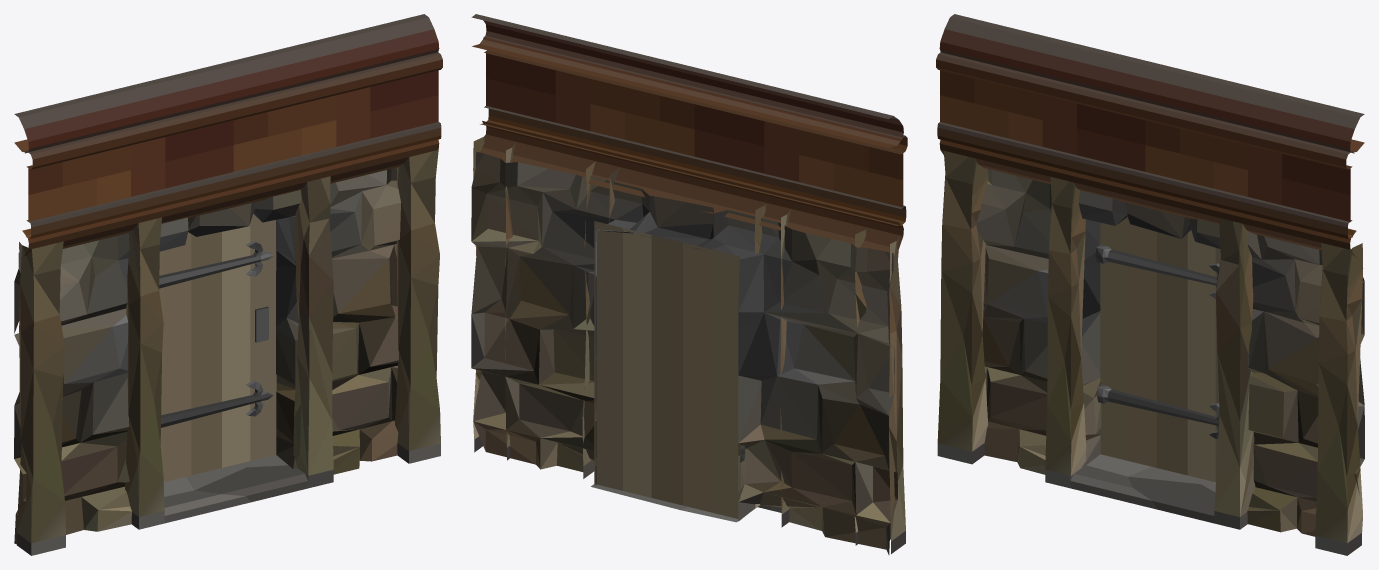
The model's file is Wall_HomeA-DoorHometoUnderGround.fbx.
The picture shows the model from 3 angles, left to right: view 1: azimuth 30°, elevation 25°; view 2: azimuth 150°, elevation 25°; view 3: azimuth 330°, elevation 25°; orthographic projection.
Visible parts, largest first — view 1: Wall_HomeA-DoorHometoUnderGround; view 2: Wall_HomeA-DoorHometoUnderGround; view 3: Wall_HomeA-DoorHometoUnderGround.
Boxes of the visible parts, x1,y1,x2,y2 form: Wall_HomeA-DoorHometoUnderGround: [14, 14, 442, 555]; Wall_HomeA-DoorHometoUnderGround: [471, 14, 907, 554]; Wall_HomeA-DoorHometoUnderGround: [936, 14, 1364, 555].
Size of the model in its own units: 402 by 400 by 61.14.
